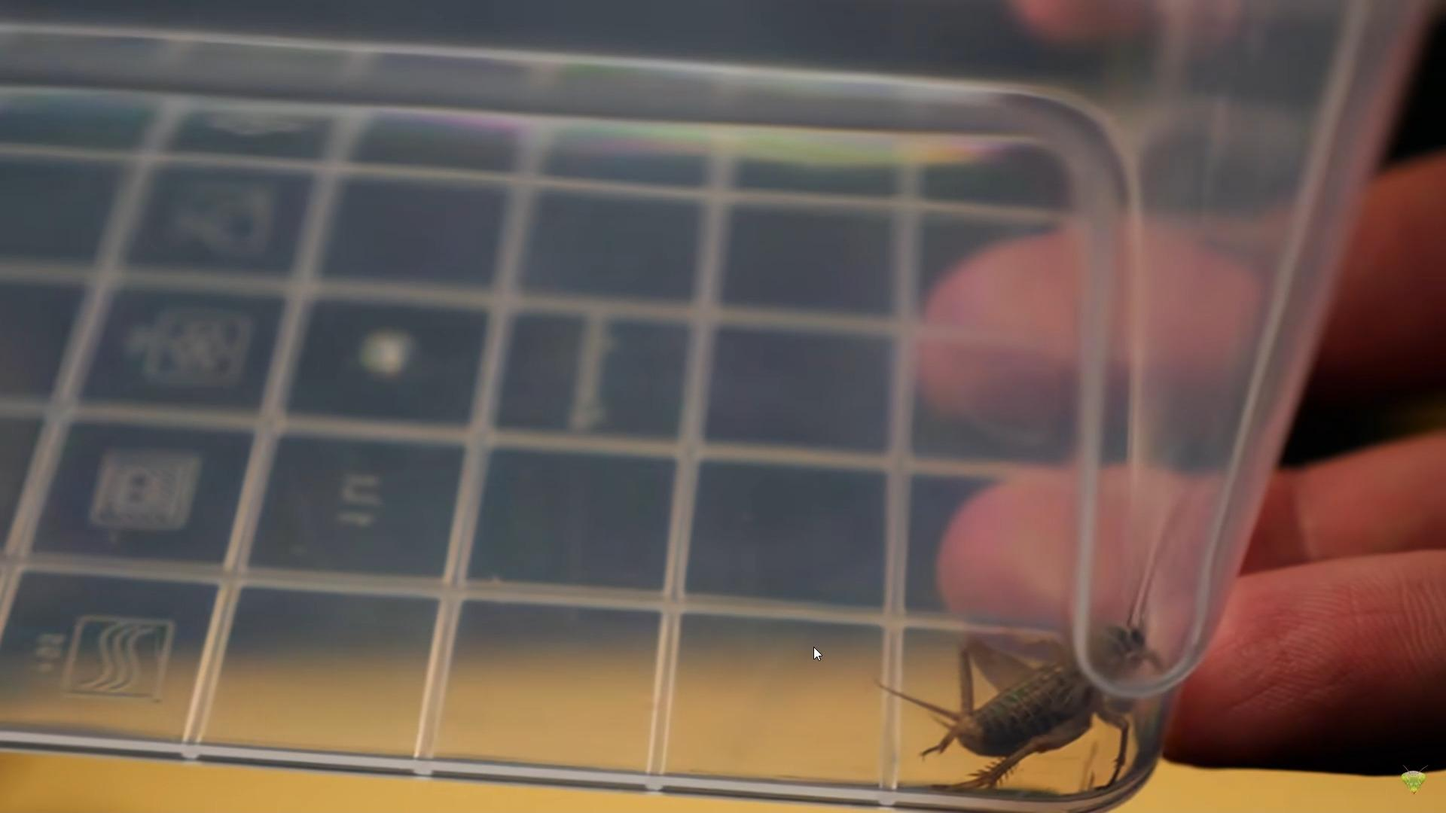cockroach: (881, 597, 1154, 792)
